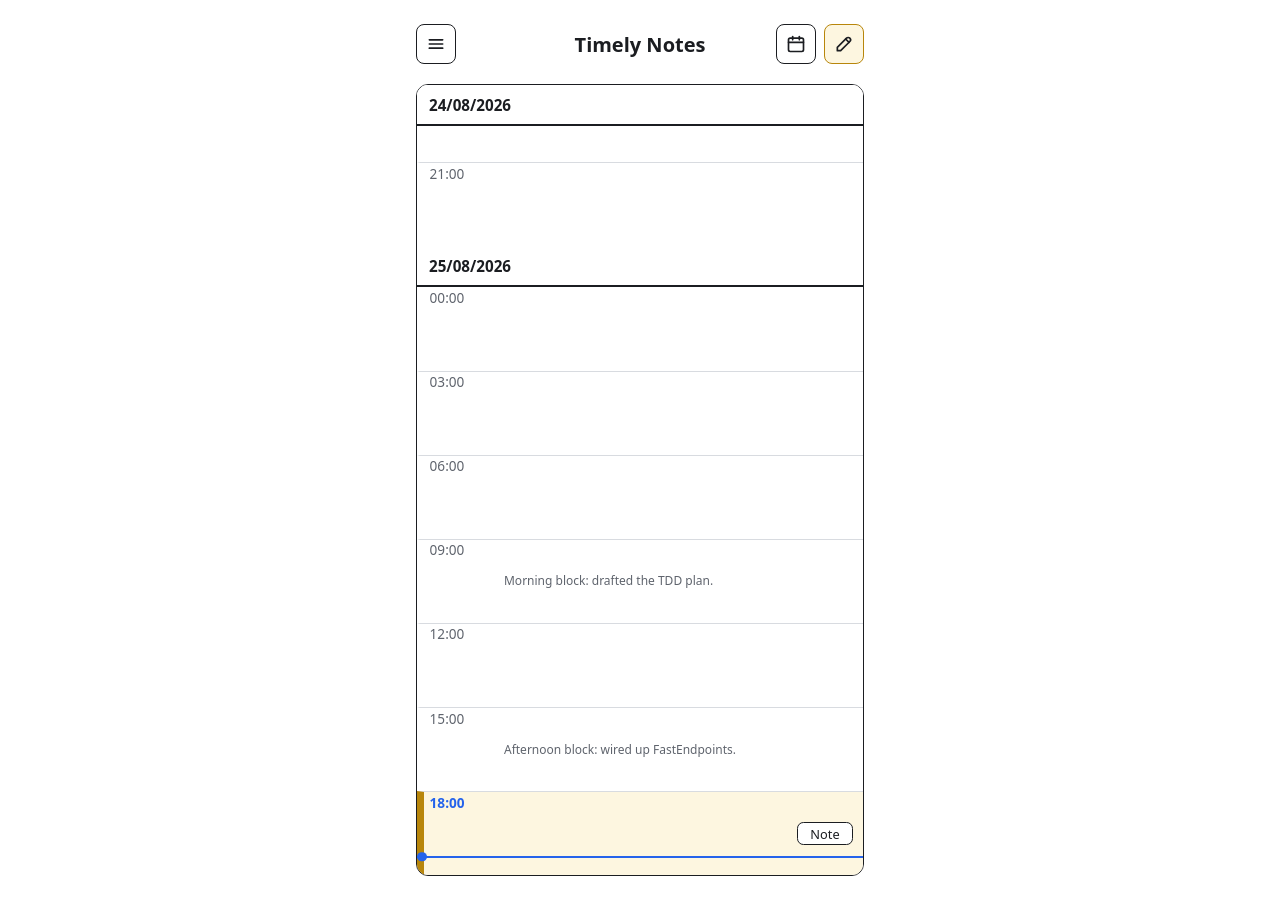
App — calendar navigation › notices a calendar jump, and closes the calendar
(page scrolled)
Expected: the option "18:00 Note" is shown, [417,791,863,875]
Expected: the text "Viewing " is not shown
Click the button named "Calendar" at (796, 44), box [776,24,816,64]
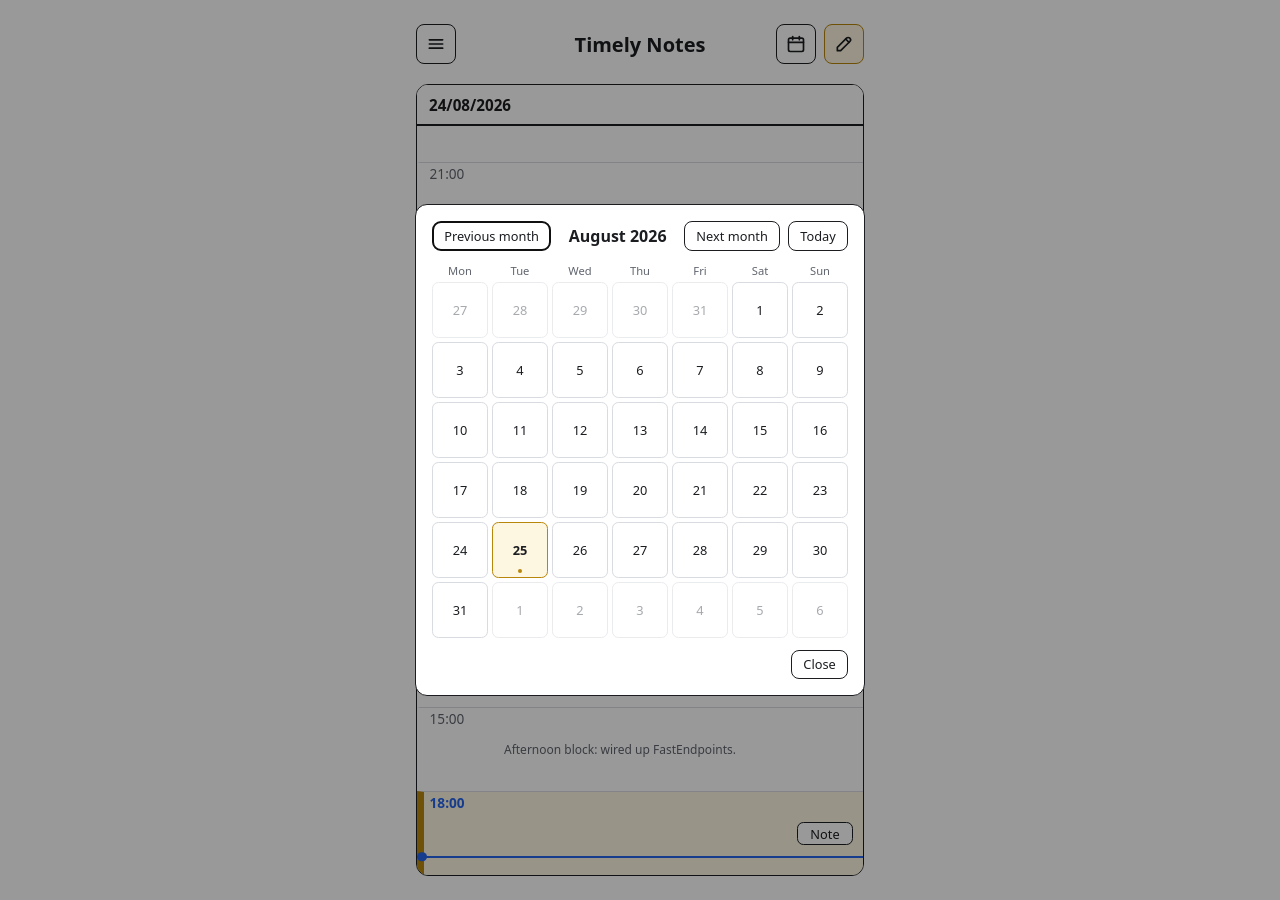
Click the button "Previous month" at (492, 236), box [432,221,551,250]
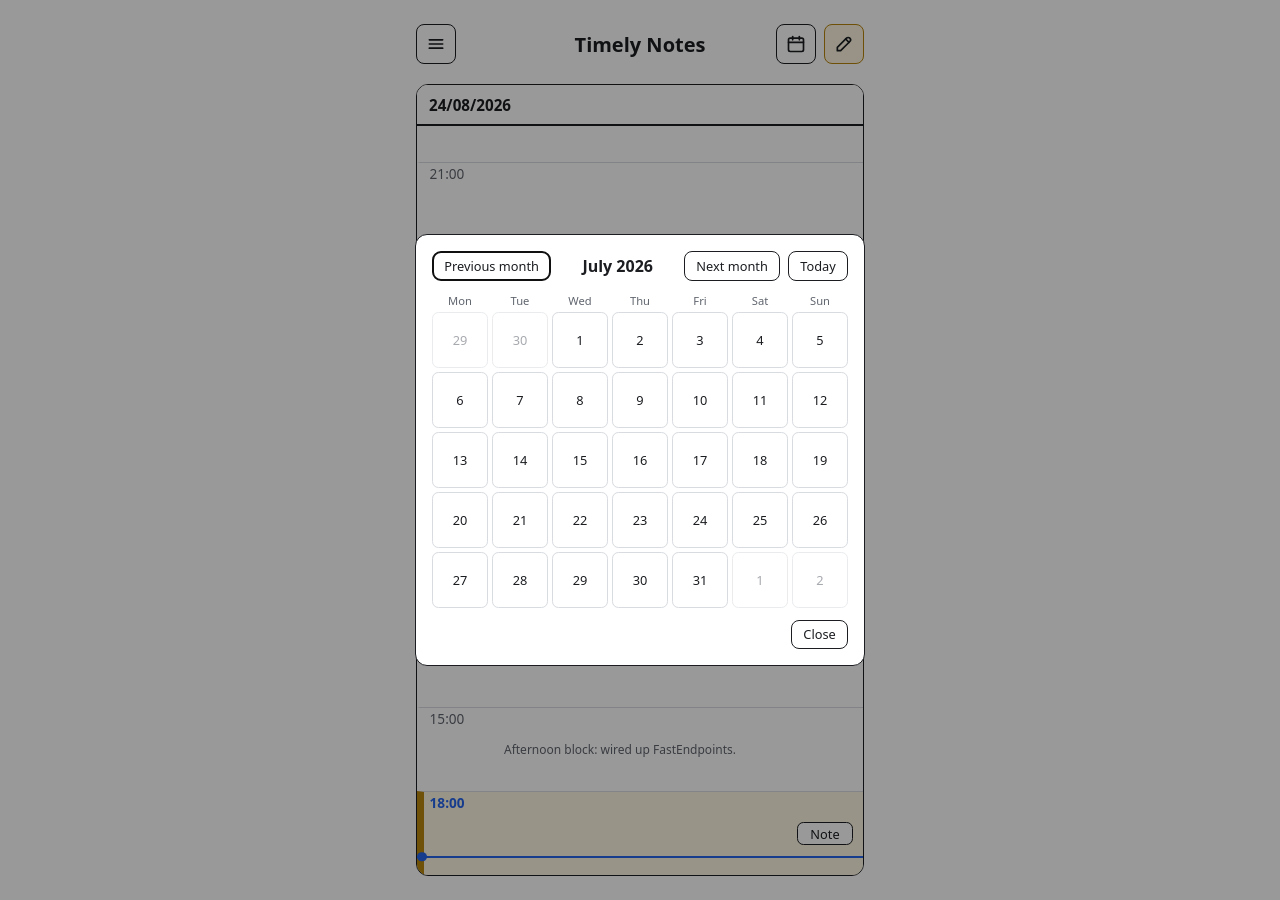
Click the button "15" at (580, 460), box [552,432,608,488]
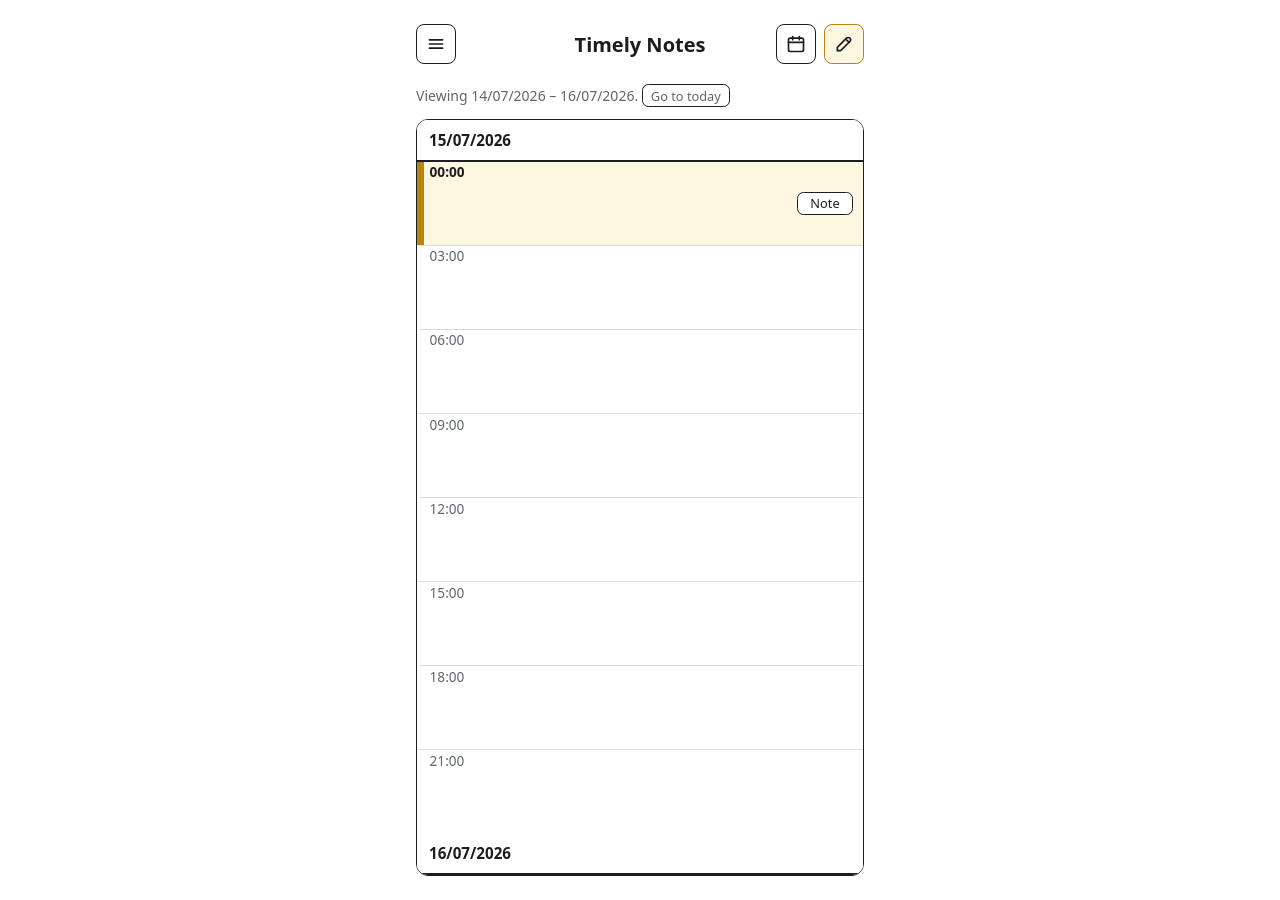
Now the text "Viewing 14/07/2026 – 16/07/2026. Go to today" is shown, box [416,84,730,107]
Now the heading "July 2026" is gone
